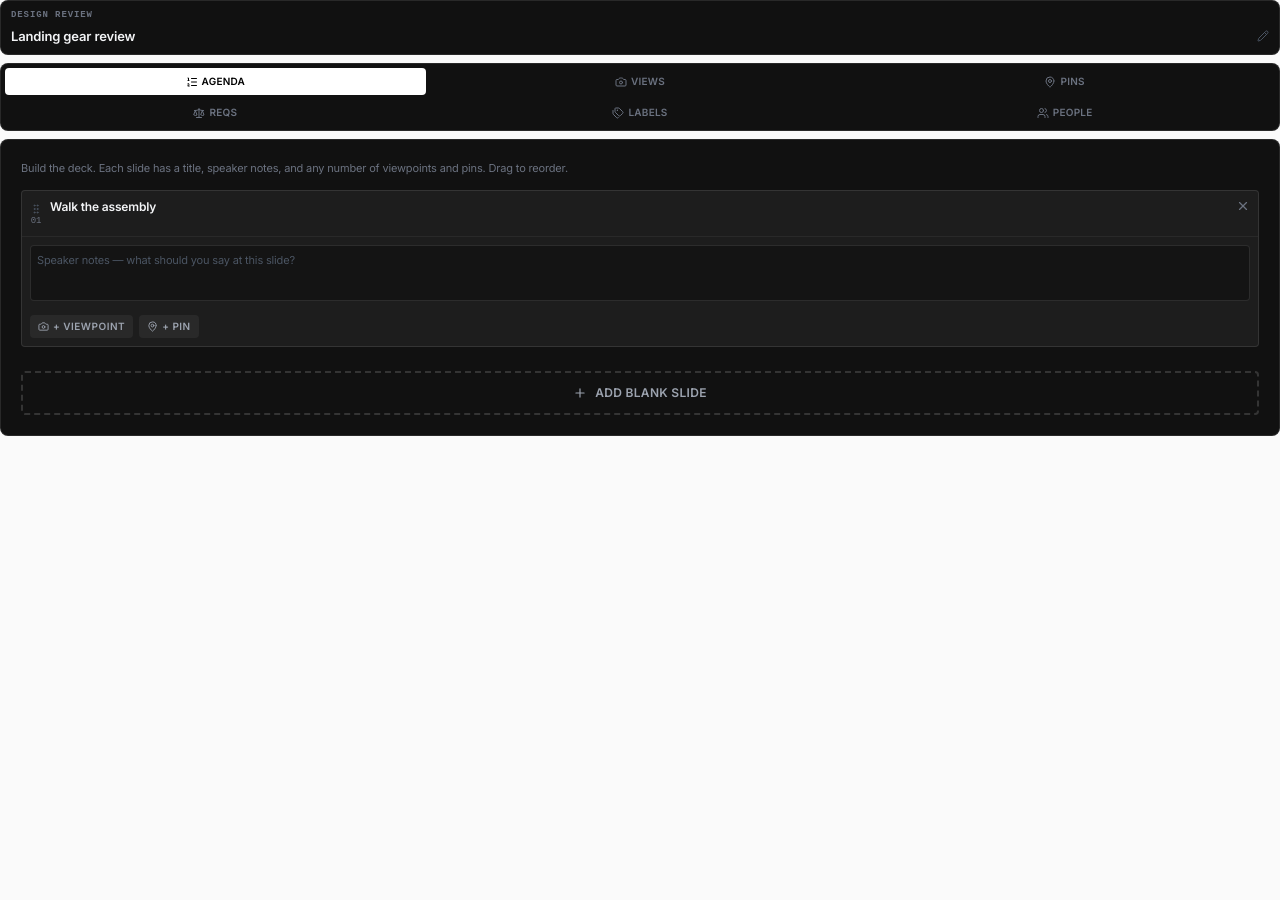
it: naming the design review › renames the review inline, and marks it as this browser's edit so it is saved and broadcast
The image size is (1280, 900).
Click the button with test id "review-title-edit" at x=73, y=36, box [11,26,1269,46]
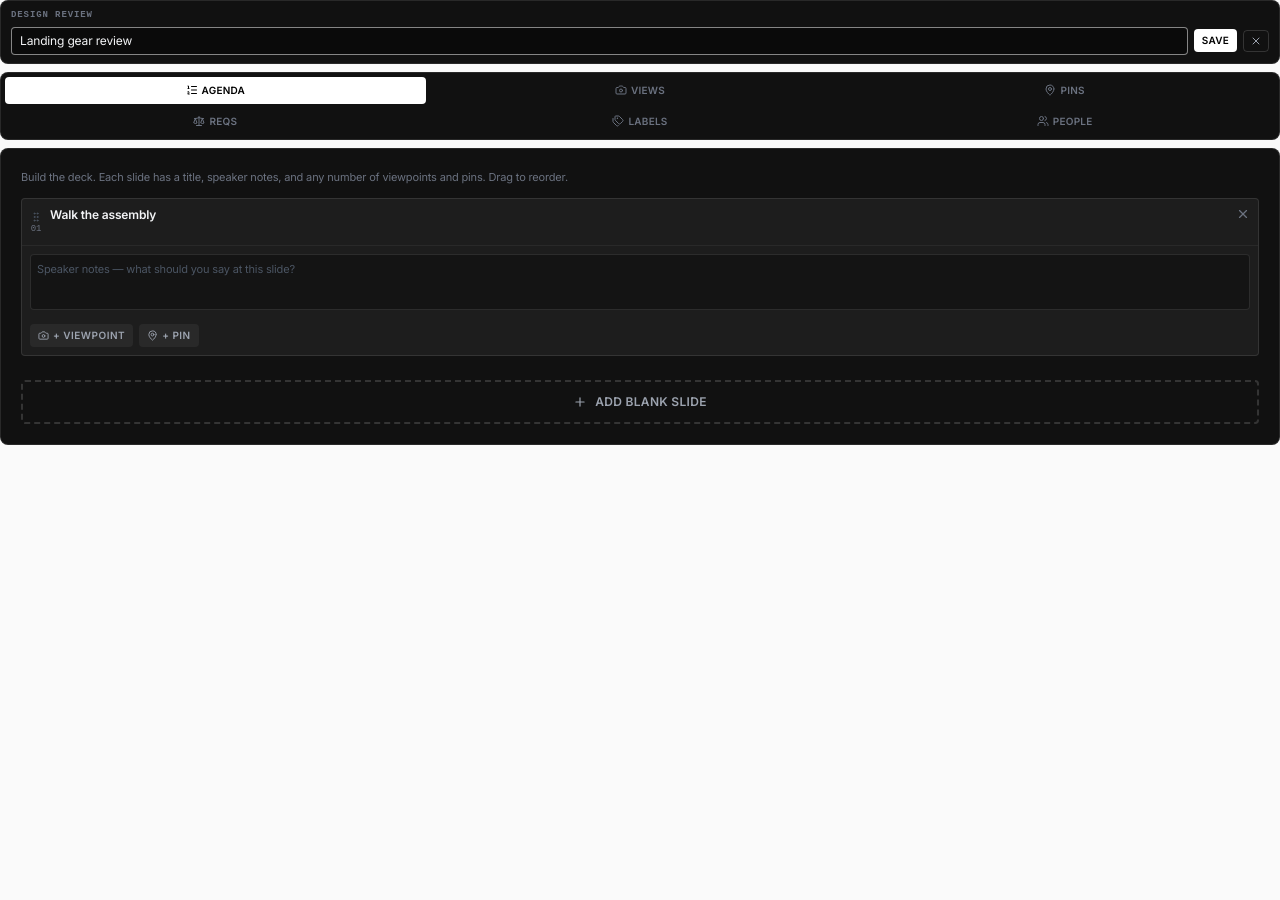
Replace the text in the field with test id "review-title-field" with "  Door hinge, rev C  " at x=599, y=40, box [11,26,1188,54]
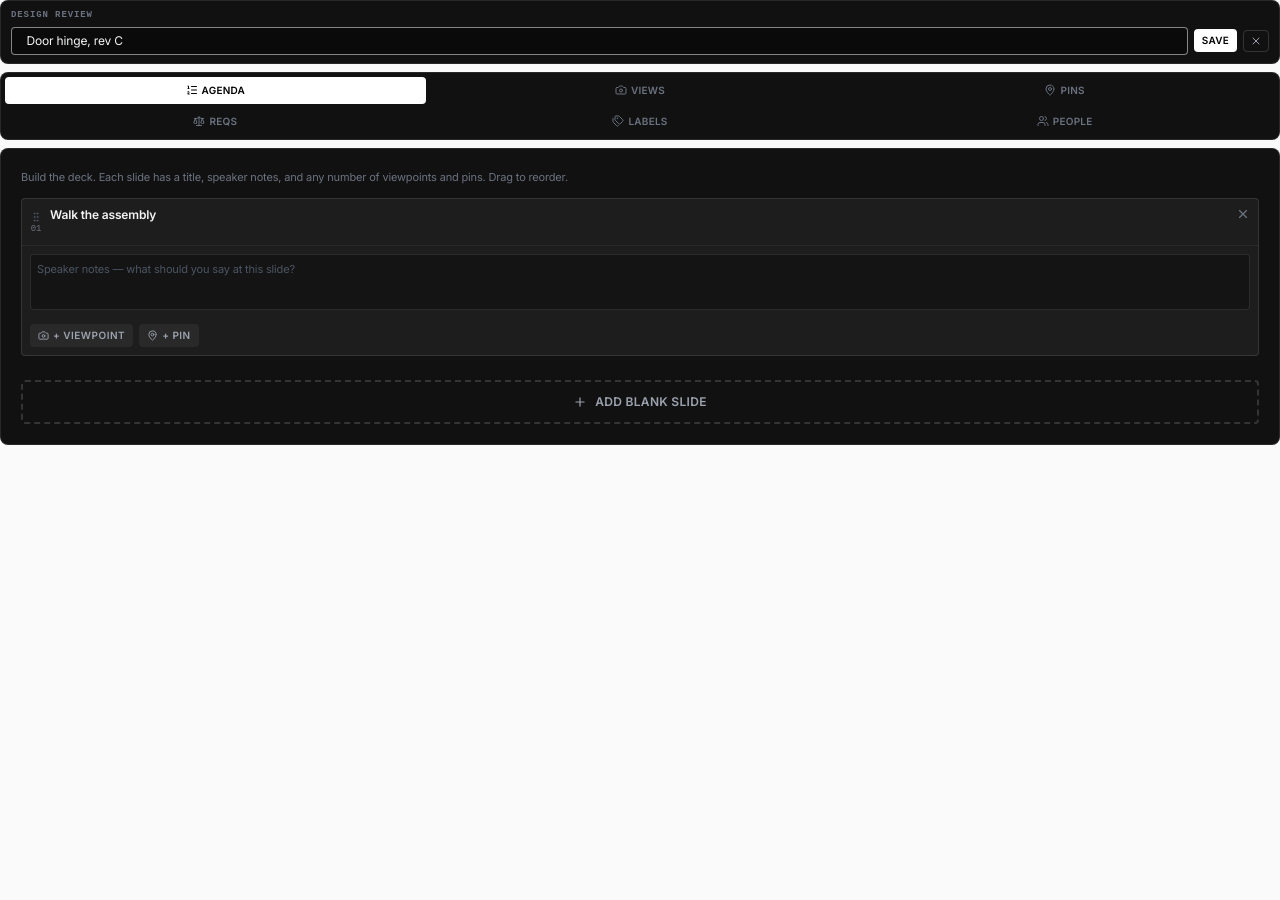
Press Enter in the field with test id "review-title-field", box [11,26,1188,54]
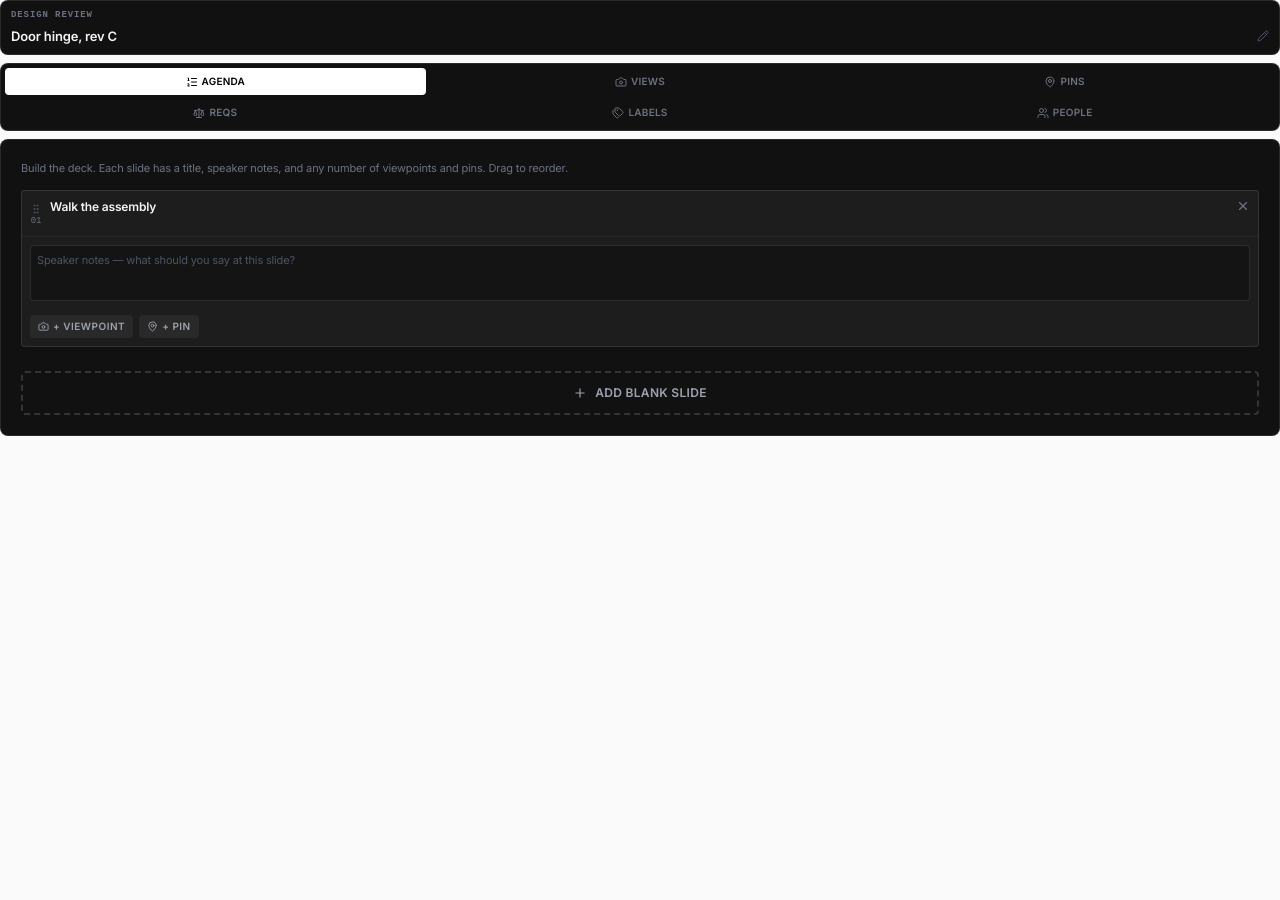
Expected: the text "Door hinge, rev C" is shown, [11,28,117,44]
Expected: the field with test id "review-title-field" is gone
Expected: the element with test id "review-title-row" shows "Door hinge, rev C", [11,26,1269,46]
